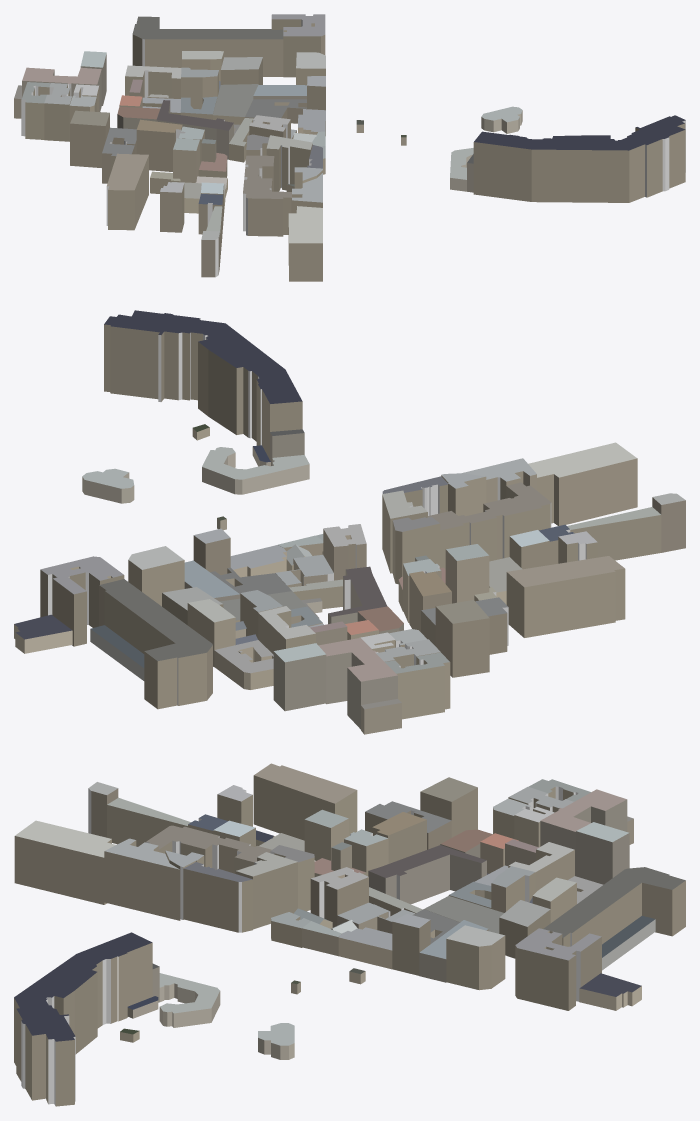
The picture shows the model from 3 angles, top to bottom: view 1: azimuth 30°, elevation 25°; view 2: azimuth 150°, elevation 25°; view 3: azimuth 270°, elevation 25°; orthographic projection. The views are drawn at different scales.
Parts seen in each view (by area): view 1: tuile; view 2: tuile; view 3: tuile.
Part boxes in pixels (<box>): tuile: <box>14,14,685,281</box>; tuile: <box>14,310,685,734</box>; tuile: <box>14,763,685,1106</box>.
Size of the model in its own units: 305 by 33.69 by 293.
